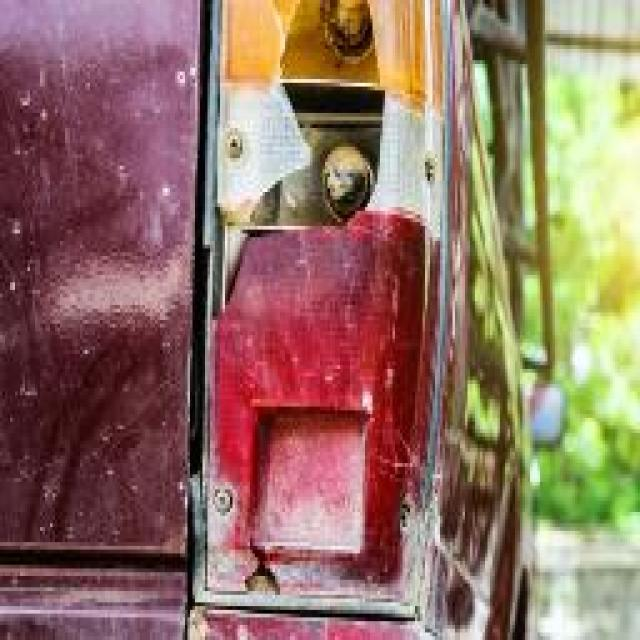Light: (210, 8, 420, 614)
